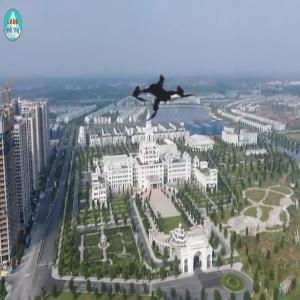drone: (111, 46, 215, 150)
